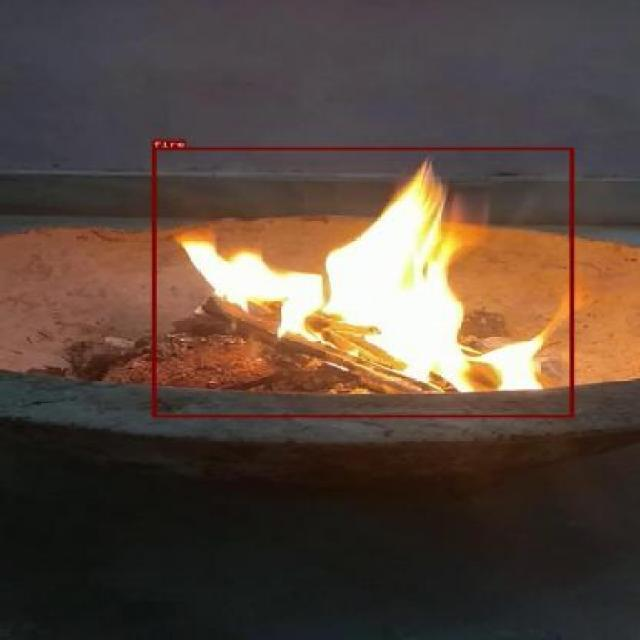Fire: (152, 147, 574, 416)
